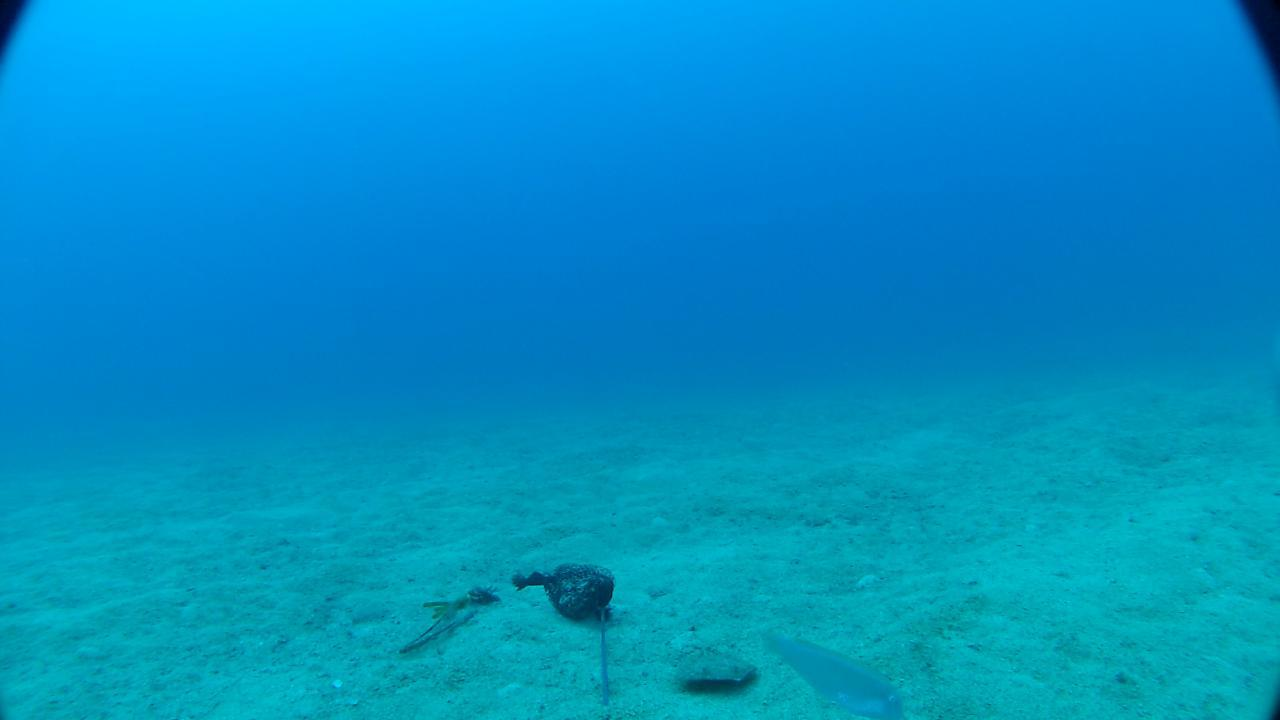bothus: (668, 637, 759, 685)
